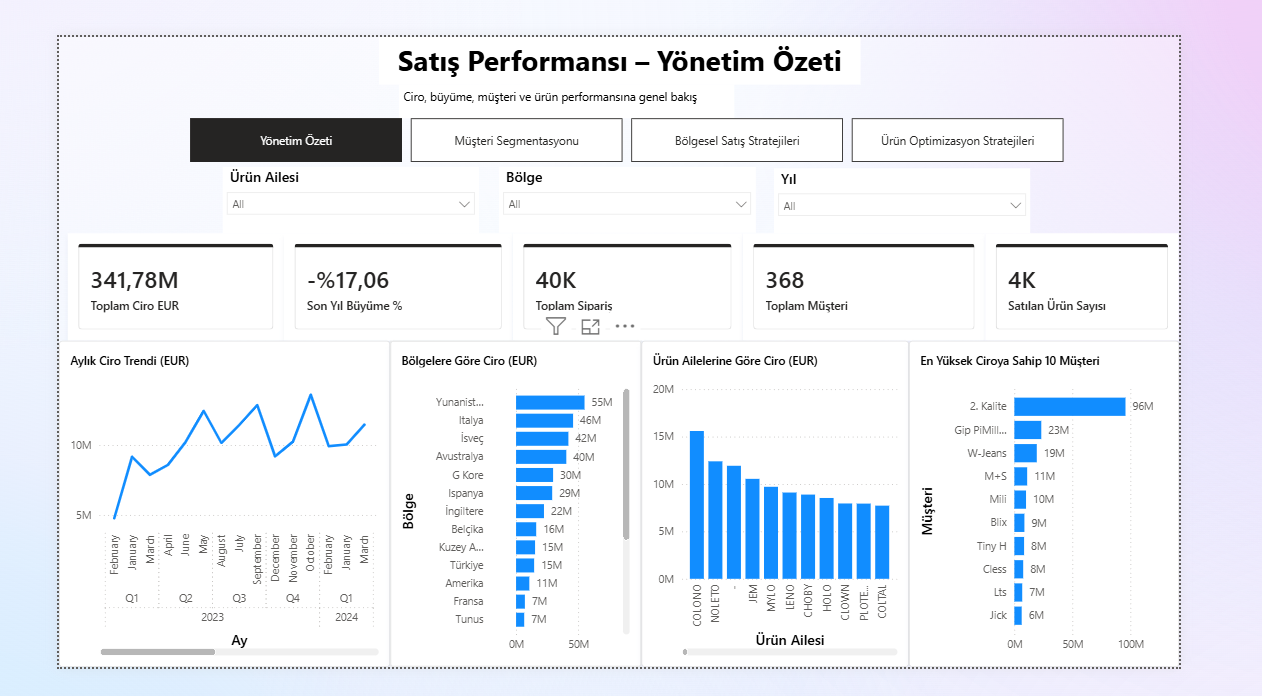

This screenshot's page, from the dashboard's own definition file:
{"tool":"powerbi","page":{"name":"Yönetim Özeti","canvas":[1280,720],"ordinal":0},"visuals":[{"type":"cardVisual","fields":{"Data":["Satış Verileri.Toplam Ciro EUR"]},"box":[10,224.3,247.1,122.9],"z":0},{"type":"cardVisual","fields":{"Data":["Satış Verileri.Son Yıl Büyüme %"]},"box":[257.1,224.3,261.4,122.9],"z":1000},{"type":"cardVisual","fields":{"Data":["Satış Verileri.Toplam Sipariş"]},"box":[518.6,224.3,262.9,122.9],"z":2000},{"type":"cardVisual","fields":{"Data":["Satış Verileri.Toplam Müşteri"]},"box":[781.4,224.3,277.1,122.9],"z":3000},{"type":"cardVisual","fields":{"Data":["Satış Verileri.Satılan Ürün Sayısı"]},"box":[1058.6,224.3,221.4,122.9],"z":4000},{"type":"lineChart","title":"Aylık Ciro Trendi (EUR)","fields":{"Y":["Satış Verileri.Toplam Ciro EUR"],"Category":["Tarih.Yıl","Tarih.Çeyrek","Tarih.Ay"]},"box":[0,347.1,378.6,372.9],"z":5000},{"type":"clusteredBarChart","title":"Bölgelere Göre Ciro (EUR)","fields":{"Category":["Satış Verileri.Bölge"],"Y":["Satış Verileri.Toplam Ciro EUR"]},"box":[378.6,347.1,287.1,372.9],"z":6000},{"type":"clusteredColumnChart","title":"Ürün Ailelerine Göre Ciro (EUR)","fields":{"Category":["Ürün Master.Ürün Ailesi"],"Y":["Satış Verileri.Toplam Ciro EUR"]},"box":[665.7,347.1,305.7,372.9],"z":7000},{"type":"clusteredBarChart","title":"En Yüksek Ciroya Sahip 10 Müşteri","fields":{"Category":["Dim_Customer.Müşteri"],"Y":["Satış Verileri.Toplam Ciro EUR"]},"box":[971.4,347.1,308.6,372.9],"z":8000},{"type":"slicer","fields":{"Values":["Tarih.Yıl"]},"box":[817.1,150,292.9,74.3],"z":9000},{"type":"slicer","fields":{"Values":["Satış Verileri.Bölge"]},"box":[502.9,148.6,293.3,75],"z":10000},{"type":"slicer","fields":{"Values":["Ürün Master.Ürün Ailesi"]},"box":[187.1,148.6,292.9,75.7],"z":11000},{"type":"textbox","box":[365.7,0,550,54.3],"z":12000},{"type":"textbox","box":[388.6,54.3,382.9,38.6],"z":13000},{"type":"pageNavigator","box":[150,92.9,1000,50],"z":14000}]}

Visuals, with their boxes in screenshot pixels (x1, y1, x2, y2), scaled from the page's 1280x720 canvas onto the 1262x696 screenshot:
cardVisual - Satış Verileri.Toplam Ciro EUR: [10,217,253,336]
cardVisual - Satış Verileri.Son Yıl Büyüme %: [253,217,511,336]
cardVisual - Satış Verileri.Toplam Sipariş: [511,217,771,336]
cardVisual - Satış Verileri.Toplam Müşteri: [770,217,1044,336]
cardVisual - Satış Verileri.Satılan Ürün Sayısı: [1044,217,1261,336]
"Aylık Ciro Trendi (EUR)" lineChart: [0,336,373,695]
"Bölgelere Göre Ciro (EUR)" clusteredBarChart: [373,336,656,695]
"Ürün Ailelerine Göre Ciro (EUR)" clusteredColumnChart: [656,336,958,695]
"En Yüksek Ciroya Sahip 10 Müşteri" clusteredBarChart: [958,336,1261,695]
slicer - Tarih.Yıl: [806,145,1094,217]
slicer - Satış Verileri.Bölge: [496,144,785,216]
slicer - Ürün Master.Ürün Ailesi: [184,144,473,217]
textbox: [361,0,903,52]
textbox: [383,52,761,90]
pageNavigator: [148,90,1134,138]
